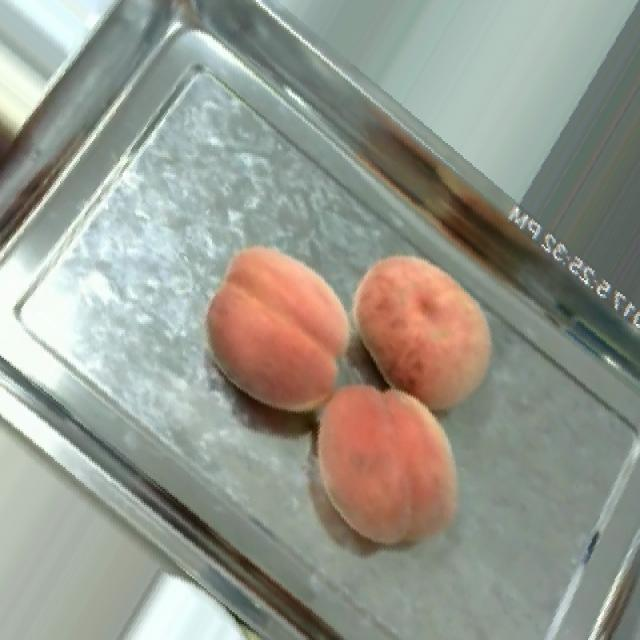Fruit: (285, 356, 492, 572), (190, 231, 370, 435), (338, 238, 514, 438)
